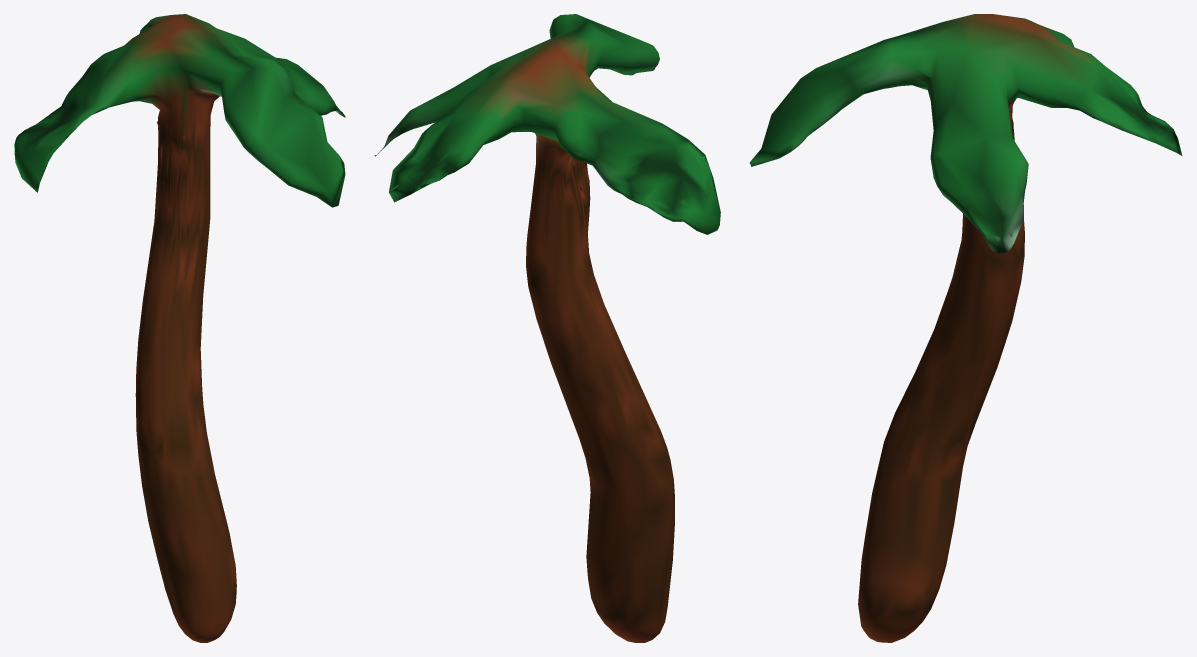
Rendered from Palm.fbx.
The picture shows the model from 3 angles, left to right: view 1: azimuth 30°, elevation 25°; view 2: azimuth 150°, elevation 25°; view 3: azimuth 270°, elevation 25°; orthographic projection. The views are drawn at different scales.
Parts seen in each view (by area): view 1: PalmLow; view 2: PalmLow; view 3: PalmLow.
Part boxes in pixels (bbox=[...]): PalmLow: bbox=[14, 14, 345, 642]; PalmLow: bbox=[374, 14, 720, 642]; PalmLow: bbox=[749, 14, 1182, 642].
Size of the model in its own units: 230 by 402 by 246.
